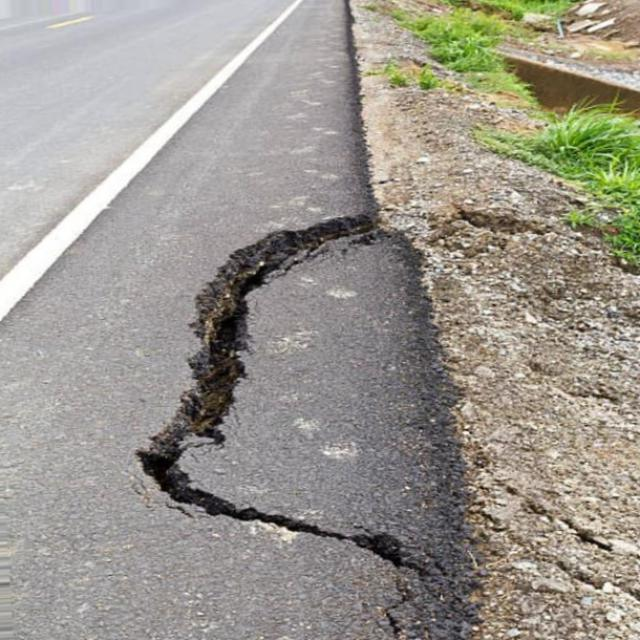Pinggir: (137, 210, 478, 584)
